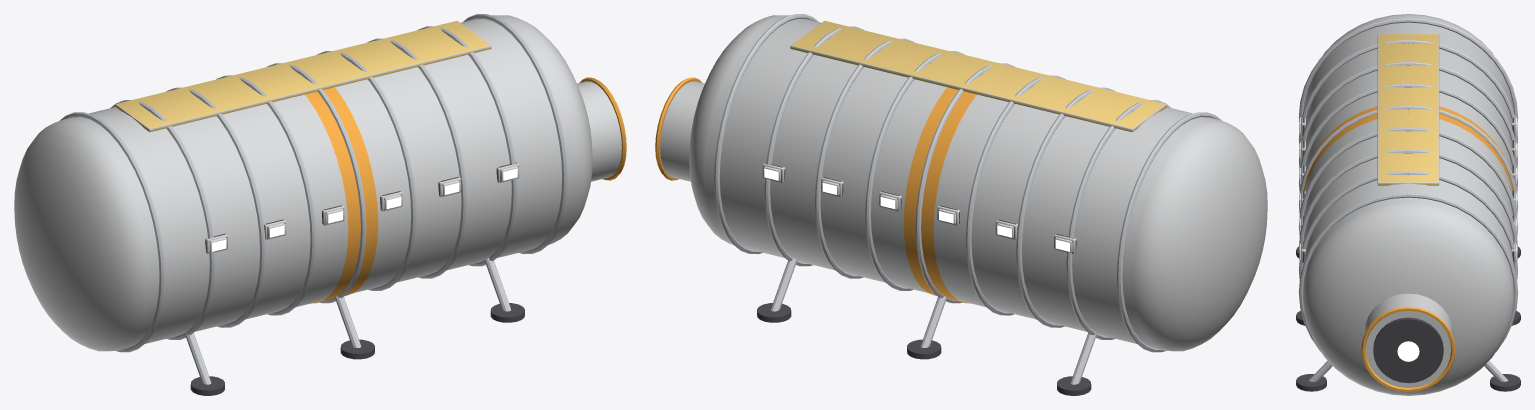
Rendered from Habitat.fbx.
3 renders of one model, left to right at view 1: azimuth 30°, elevation 25°; view 2: azimuth 150°, elevation 25°; view 3: azimuth 270°, elevation 25°, orthographic. The views are drawn at different scales.
Visible parts, largest first — view 1: Habitat; view 2: Habitat; view 3: Habitat.
Part boxes in pixels (<box>): Habitat: <box>14,14,626,395</box>; Habitat: <box>655,14,1267,395</box>; Habitat: <box>1296,14,1520,395</box>.
Size of the model in its own units: 13.11 by 5.37 by 5.1.
